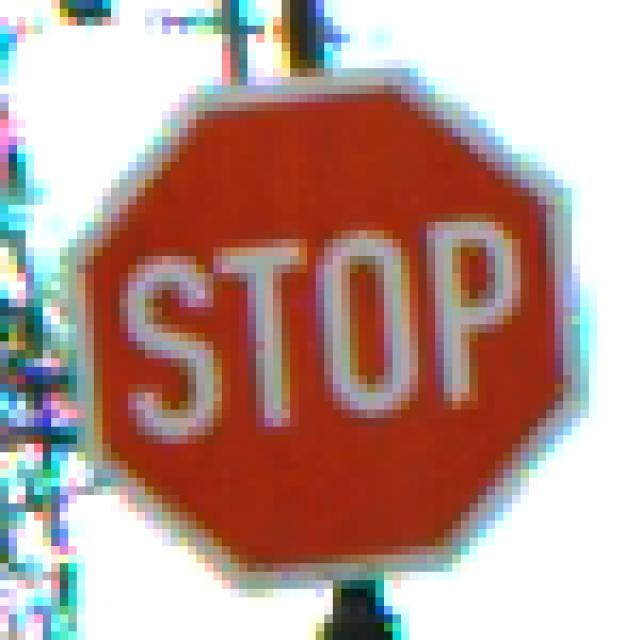STOP: (61, 61, 590, 590)
